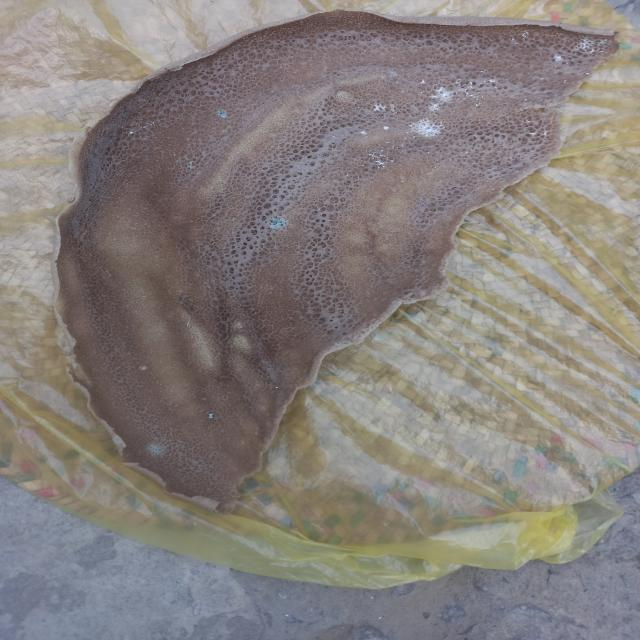injera_mold: (408, 110, 450, 141), (570, 33, 611, 63), (140, 436, 180, 462), (431, 84, 462, 110), (260, 211, 292, 233), (214, 105, 230, 121), (550, 50, 562, 69)
